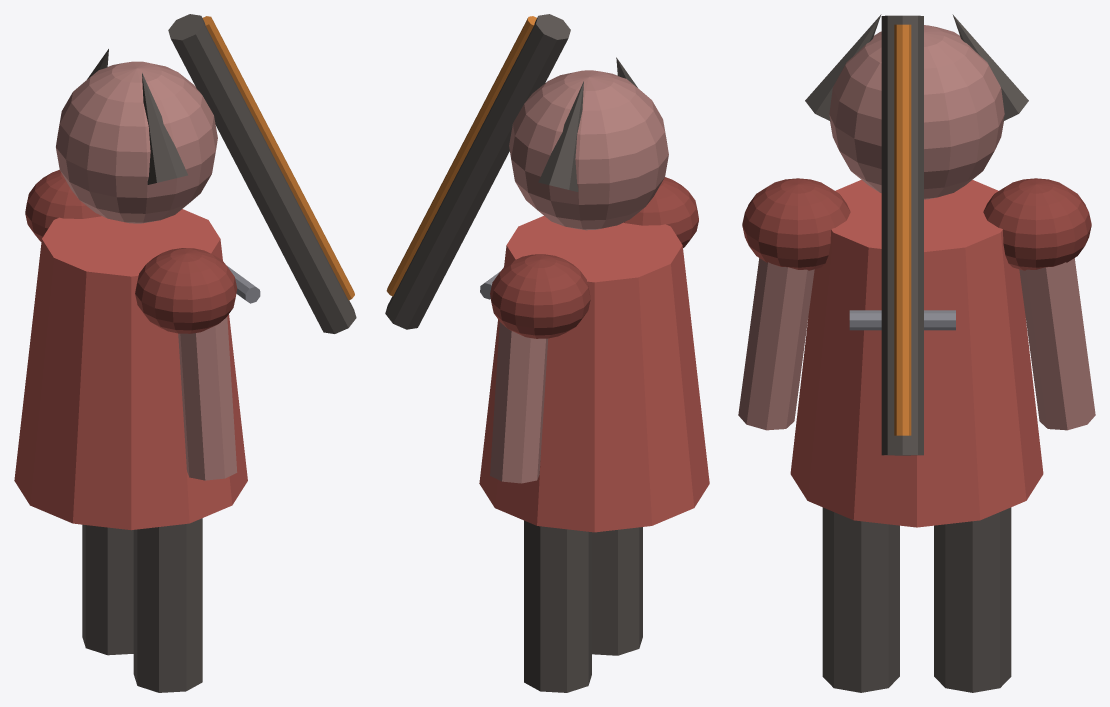
Rendered from hero_horda_0.glb.
The picture shows the model from 3 angles, left to right: view 1: azimuth 30°, elevation 25°; view 2: azimuth 150°, elevation 25°; view 3: azimuth 270°, elevation 25°; orthographic projection. The views are drawn at different scales.
Visible parts, largest first — view 1: figurka; view 2: figurka; view 3: figurka.
Part boxes in pixels (box(x1,y1,x2,y2)): figurka: box(14, 14, 356, 692); figurka: box(385, 14, 709, 692); figurka: box(738, 14, 1095, 692).
Size of the model in its own units: 0.5604 by 1.07 by 0.5044.
